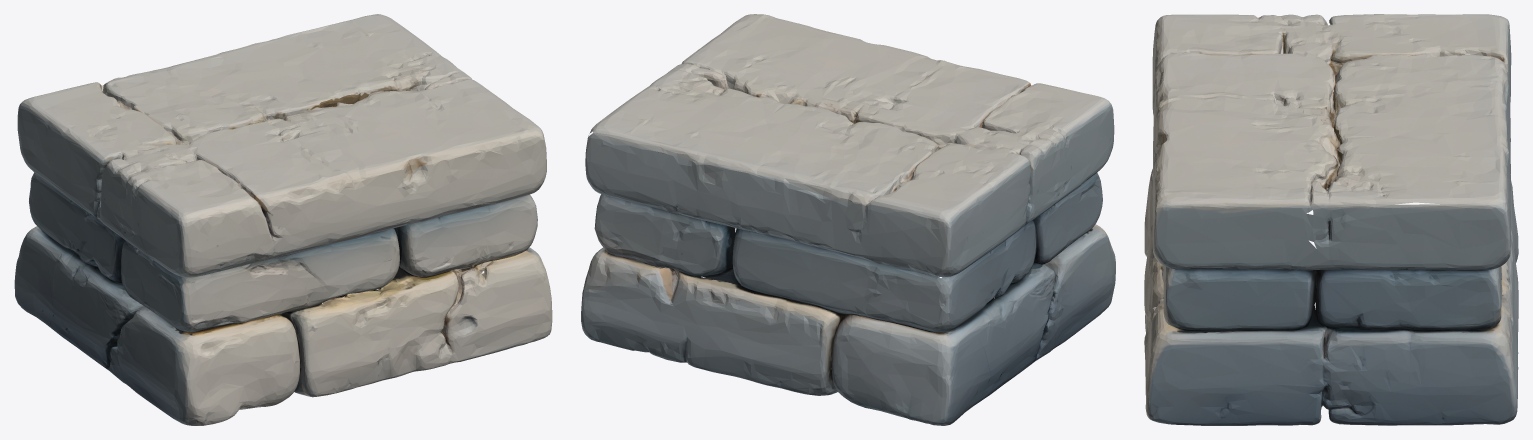
Rendered from temple-tank-edge-coping-stone-optimized.glb.
The picture shows the model from 3 angles, left to right: view 1: azimuth 30°, elevation 25°; view 2: azimuth 150°, elevation 25°; view 3: azimuth 270°, elevation 25°; orthographic projection. The views are drawn at different scales.
Parts seen in each view (by area): view 1: 083b8062-5d1e-4264-b0e2-a4c97d5b981a_texturing.obj; view 2: 083b8062-5d1e-4264-b0e2-a4c97d5b981a_texturing.obj; view 3: 083b8062-5d1e-4264-b0e2-a4c97d5b981a_texturing.obj.
Boxes of the visible parts, box(x1,y1,x2,y2) form: 083b8062-5d1e-4264-b0e2-a4c97d5b981a_texturing.obj: box(14, 14, 552, 425); 083b8062-5d1e-4264-b0e2-a4c97d5b981a_texturing.obj: box(581, 14, 1115, 425); 083b8062-5d1e-4264-b0e2-a4c97d5b981a_texturing.obj: box(1144, 14, 1518, 425).
Size of the model in its own units: 3 by 1.65 by 2.45.
1 material, 1 textured.
